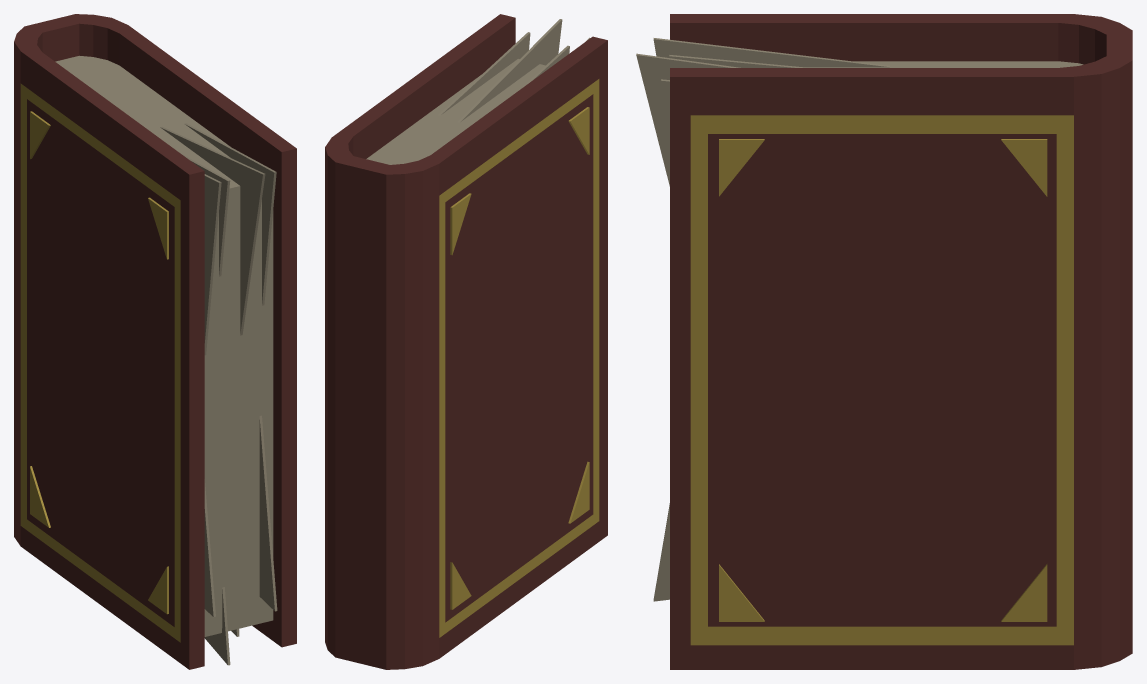
The model's file is book2-closed.glb.
3 renders of one model, left to right at view 1: azimuth 30°, elevation 25°; view 2: azimuth 150°, elevation 25°; view 3: azimuth 270°, elevation 25°, orthographic. The views are drawn at different scales.
Visible parts, largest first — view 1: Book2_Closed_Cube.111; view 2: Book2_Closed_Cube.111; view 3: Book2_Closed_Cube.111.
Part boxes in pixels (bbox=[...]): Book2_Closed_Cube.111: bbox=[14, 14, 296, 669]; Book2_Closed_Cube.111: bbox=[325, 14, 607, 669]; Book2_Closed_Cube.111: bbox=[636, 14, 1132, 669].
Size of the model in its own units: 0.1864 by 0.802 by 0.5993.
